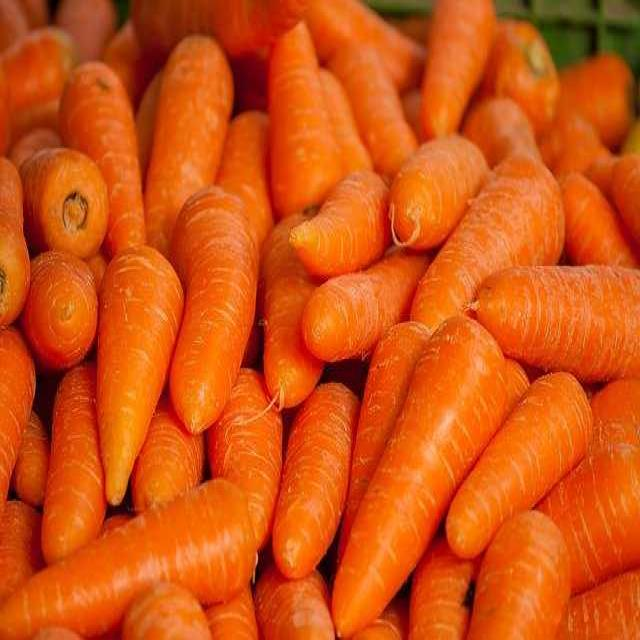Fresh_Carrot: (330, 323, 508, 635), (0, 480, 249, 640), (165, 188, 257, 428), (293, 171, 393, 269)
